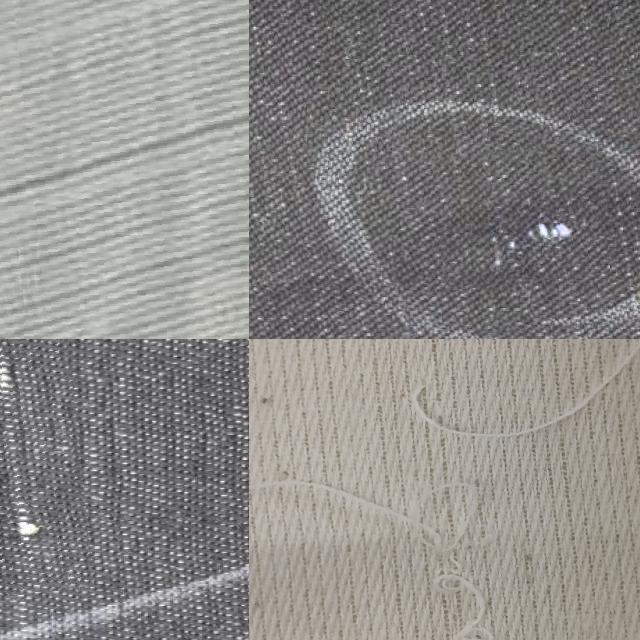Thread_other: (249, 339, 640, 640), (435, 144, 607, 285), (0, 339, 86, 597)
